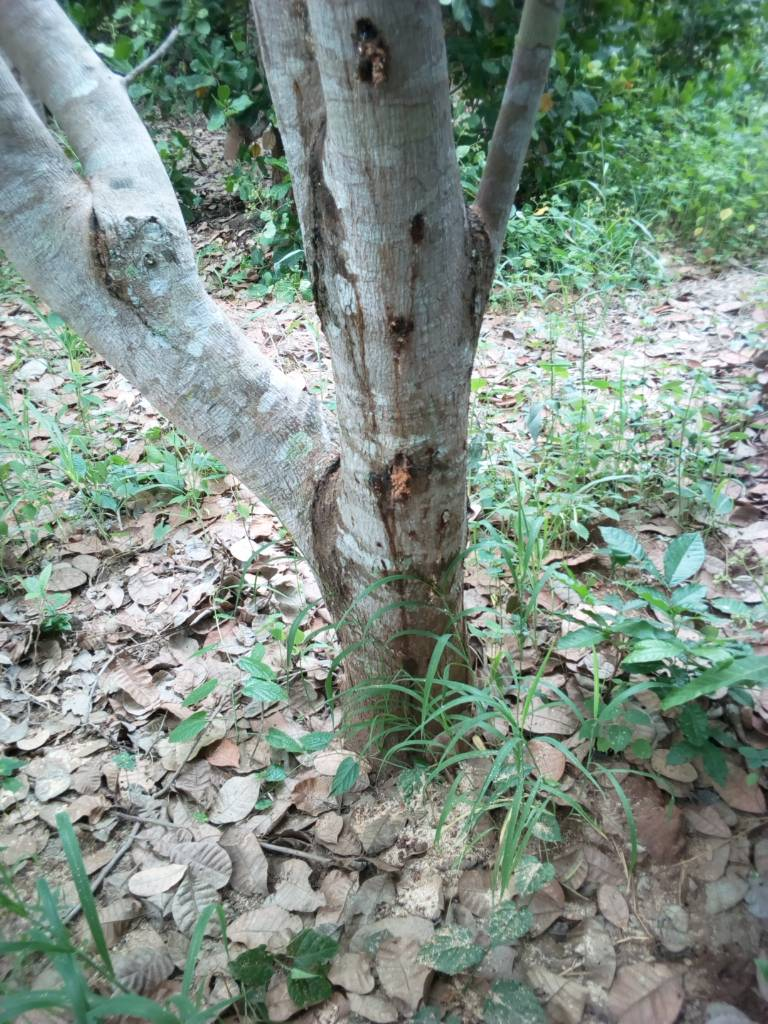Apate terebrans: (320, 1, 456, 147)
